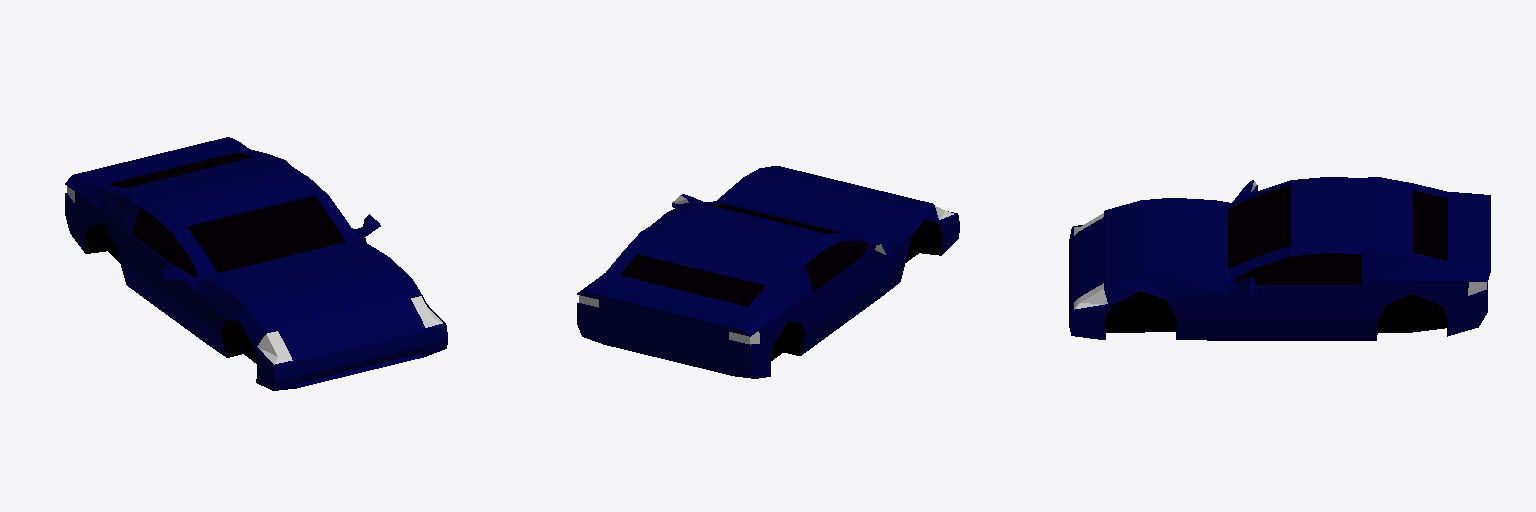
File: NaveA.obj
3 renders of one model, left to right at view 1: azimuth 30°, elevation 25°; view 2: azimuth 150°, elevation 25°; view 3: azimuth 270°, elevation 25°, orthographic.
Visible parts, largest first — view 1: Cube; view 2: Cube; view 3: Cube.
Part boxes in pixels (x1,y1,x2,y2): Cube: (65,137,447,390); Cube: (577,166,959,378); Cube: (1069,177,1490,340).
Bounding box in the file's own units: 2.52 × 0.9889 × 4.18.